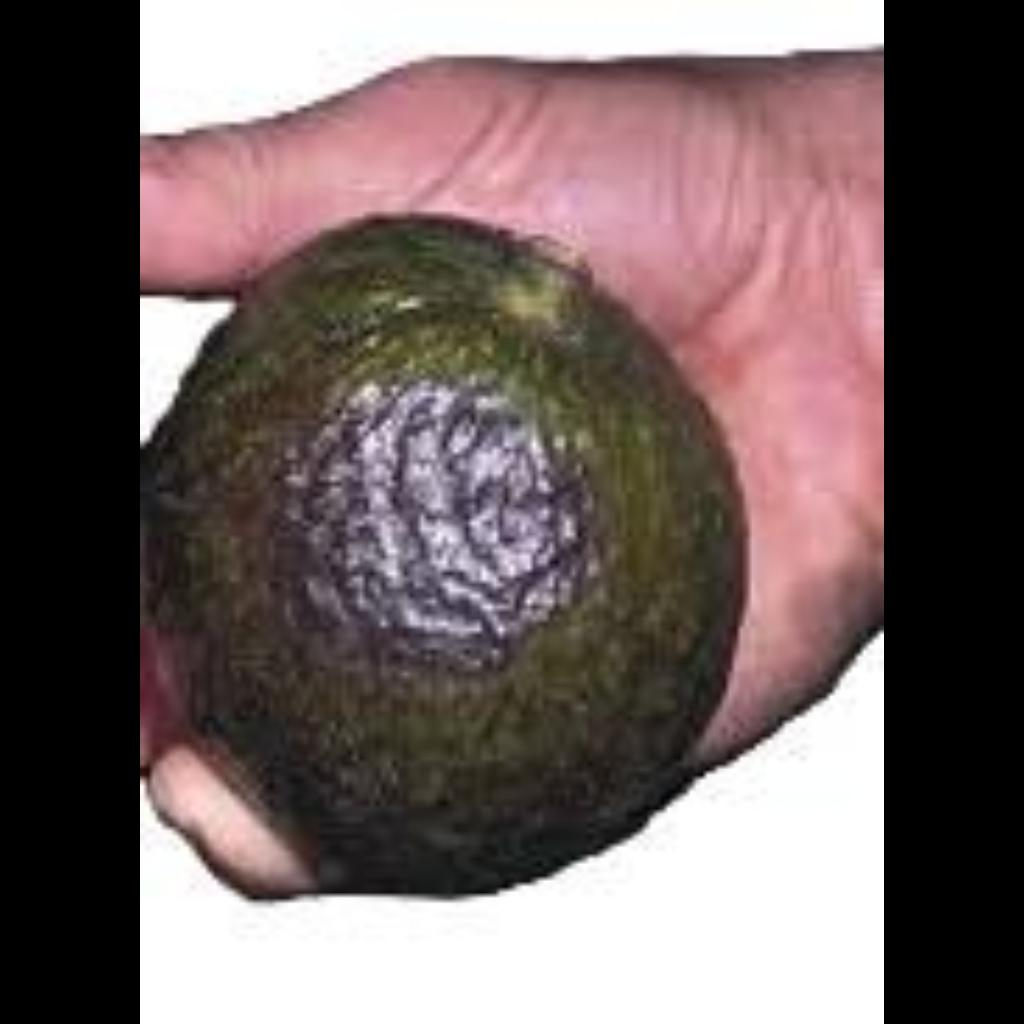antracnosis_fruto: (232, 348, 730, 772)
